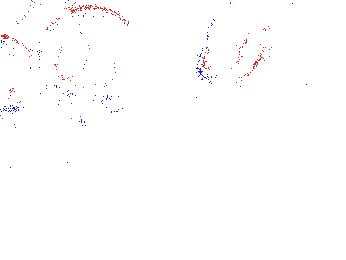moon jellyfish: (211, 1, 317, 105), (38, 5, 143, 100), (199, 3, 266, 86), (1, 34, 39, 112)
